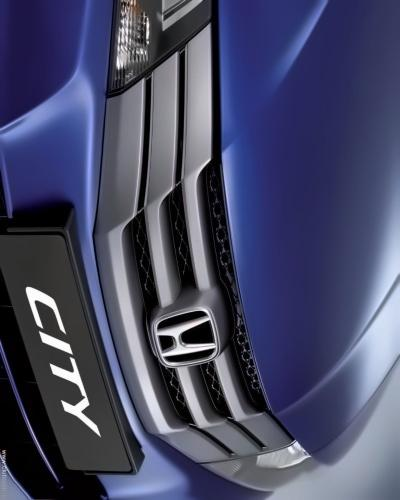Car hood: (219, 0, 400, 465)
Front bumper: (0, 0, 141, 500)
Headlight - -L-: (173, 410, 342, 500)
Headlight - -R-: (91, 0, 220, 117)
